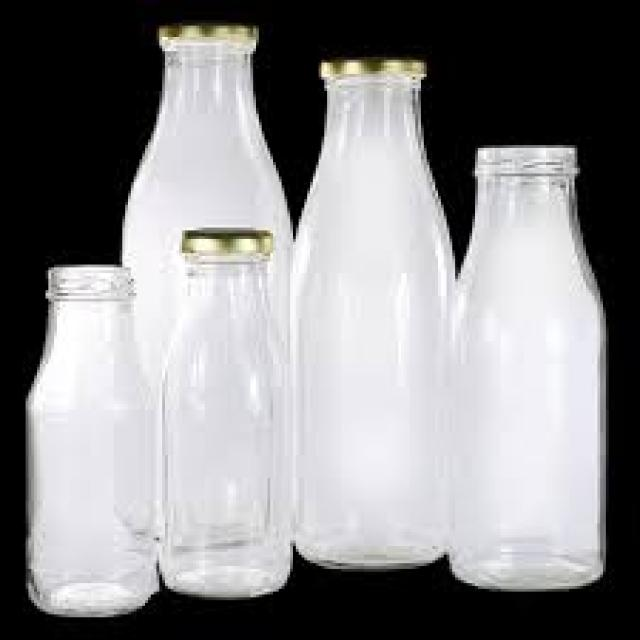glass: (282, 74, 452, 569), (447, 162, 603, 589), (120, 40, 290, 387), (156, 253, 296, 595), (23, 293, 156, 617)
metal: (316, 48, 418, 77), (174, 225, 268, 253), (157, 20, 253, 45)
